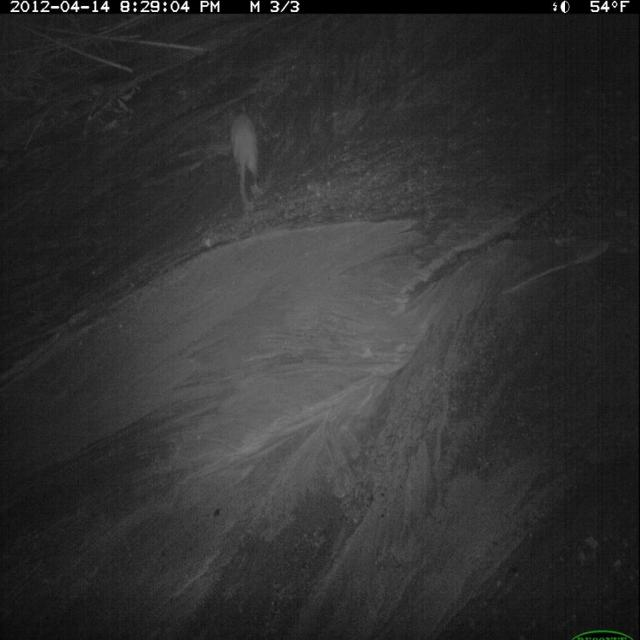opossum: (226, 99, 266, 215)
